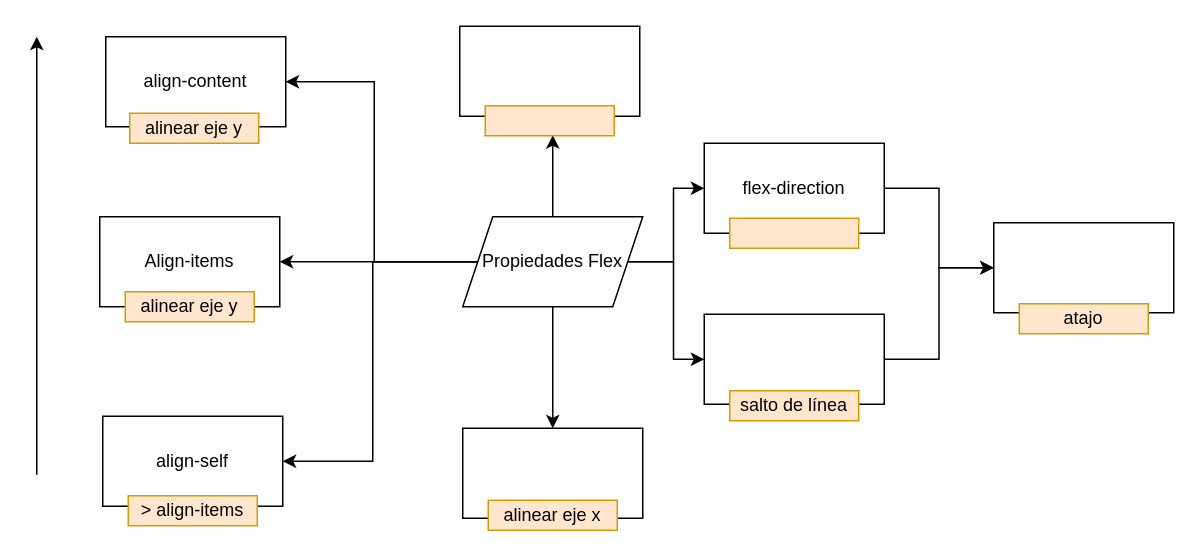
The diagram is 1200 pixels wide and 557 high, and some of its shapes have lost their labels. The shapes that lost their labels are listed below. From the top down, each one's box as (x1, y1, x2, y2) in pixels, then its label:
(458, 25, 640, 116): order
(484, 104, 614, 136): cambiar orden
(728, 217, 859, 248): Invertir ejes
(992, 221, 1174, 313): flex-flow
(703, 313, 884, 404): flex-wrap
(461, 427, 643, 518): Justify-content
